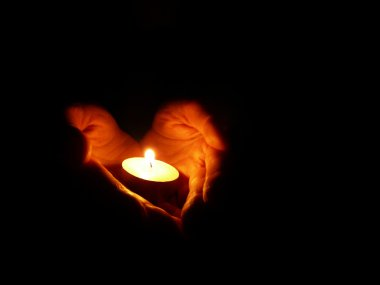fire: (136, 147, 163, 171)
